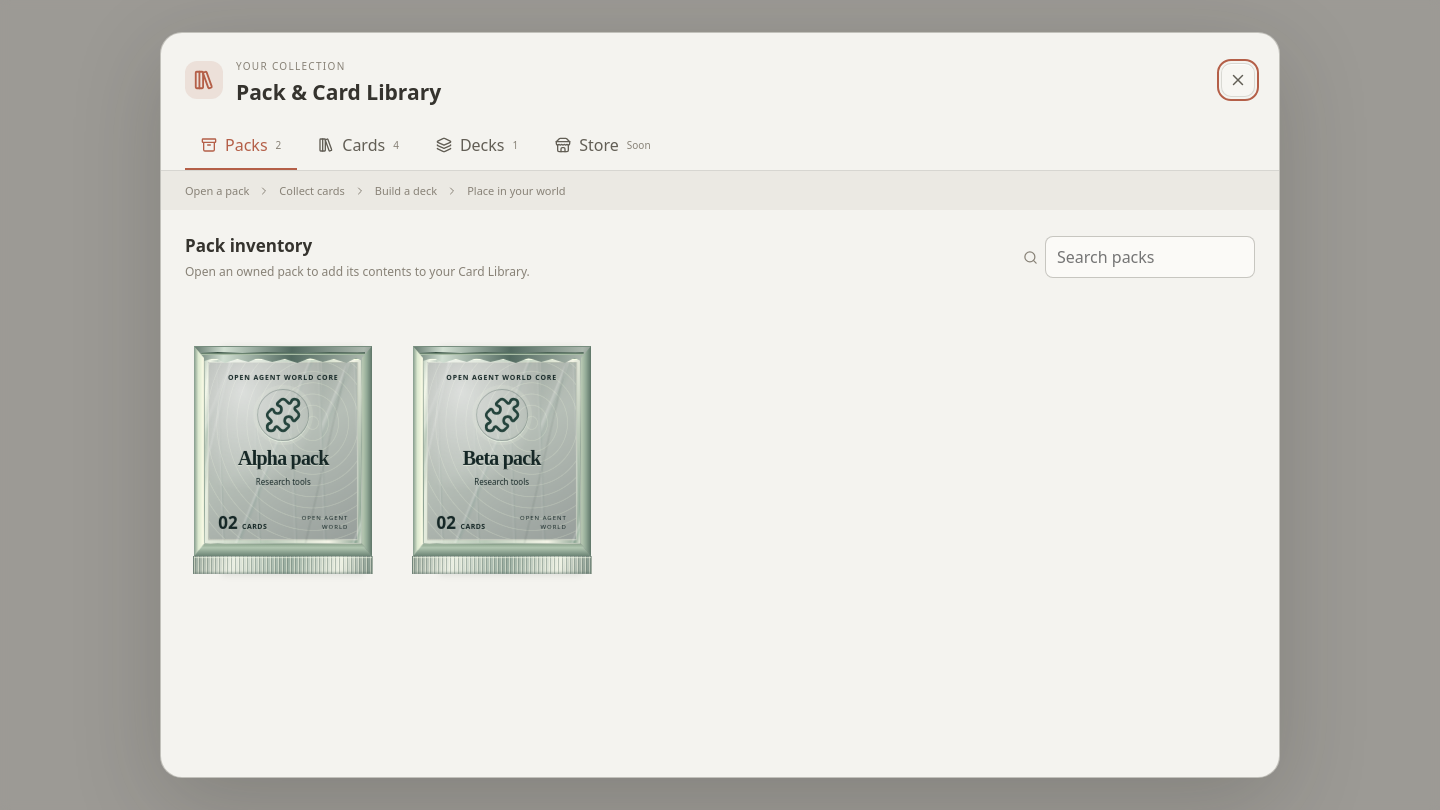
Test: keeps disabled cards visible with their purpose, and distinguishes unavailability from internal use
This screenshot has width=1440, height=810.
Click the button "Cards 4" at [359, 146], box [302, 122, 415, 170]
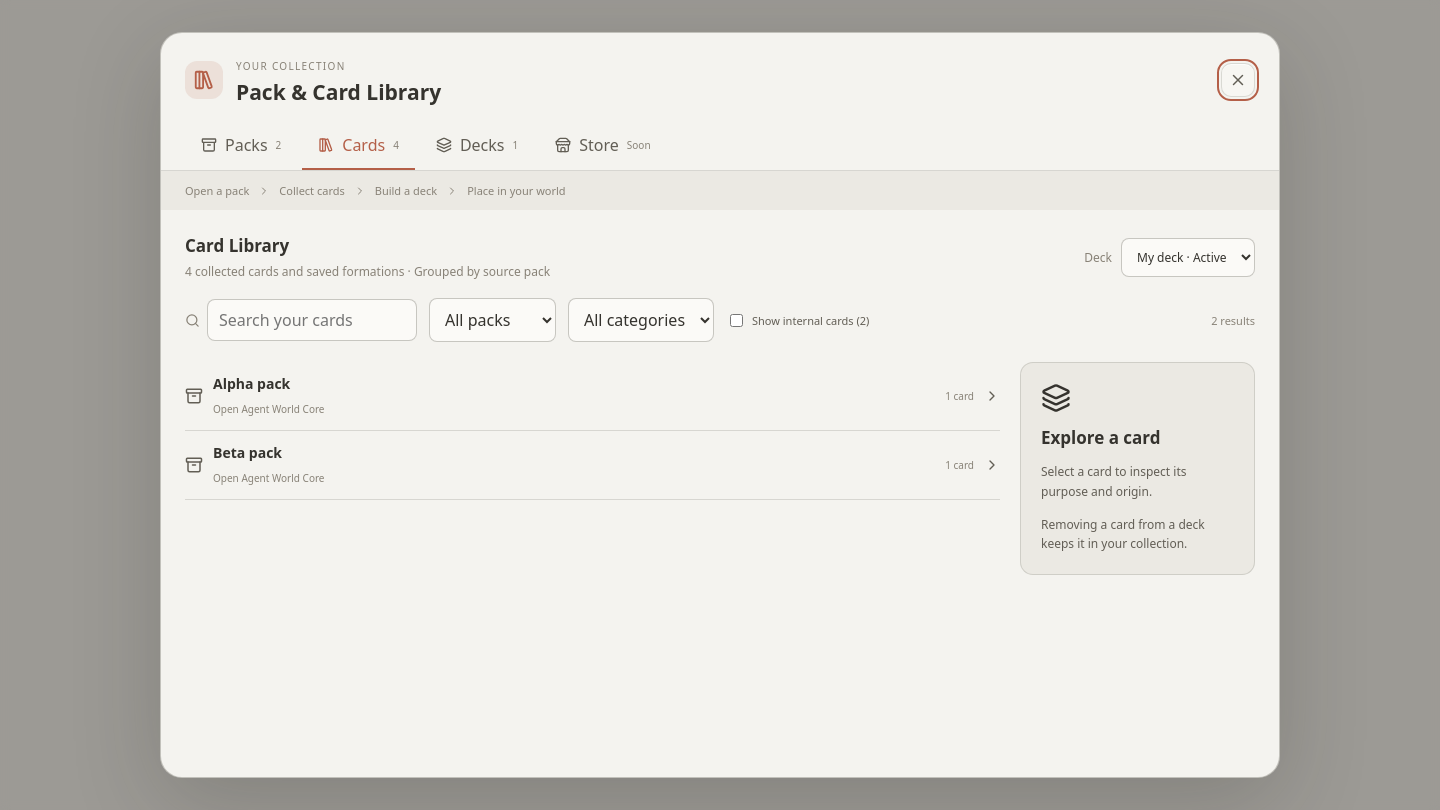
Select "Alpha pack" in the dropdown named "Source pack" at [492, 320], box [429, 298, 556, 342]
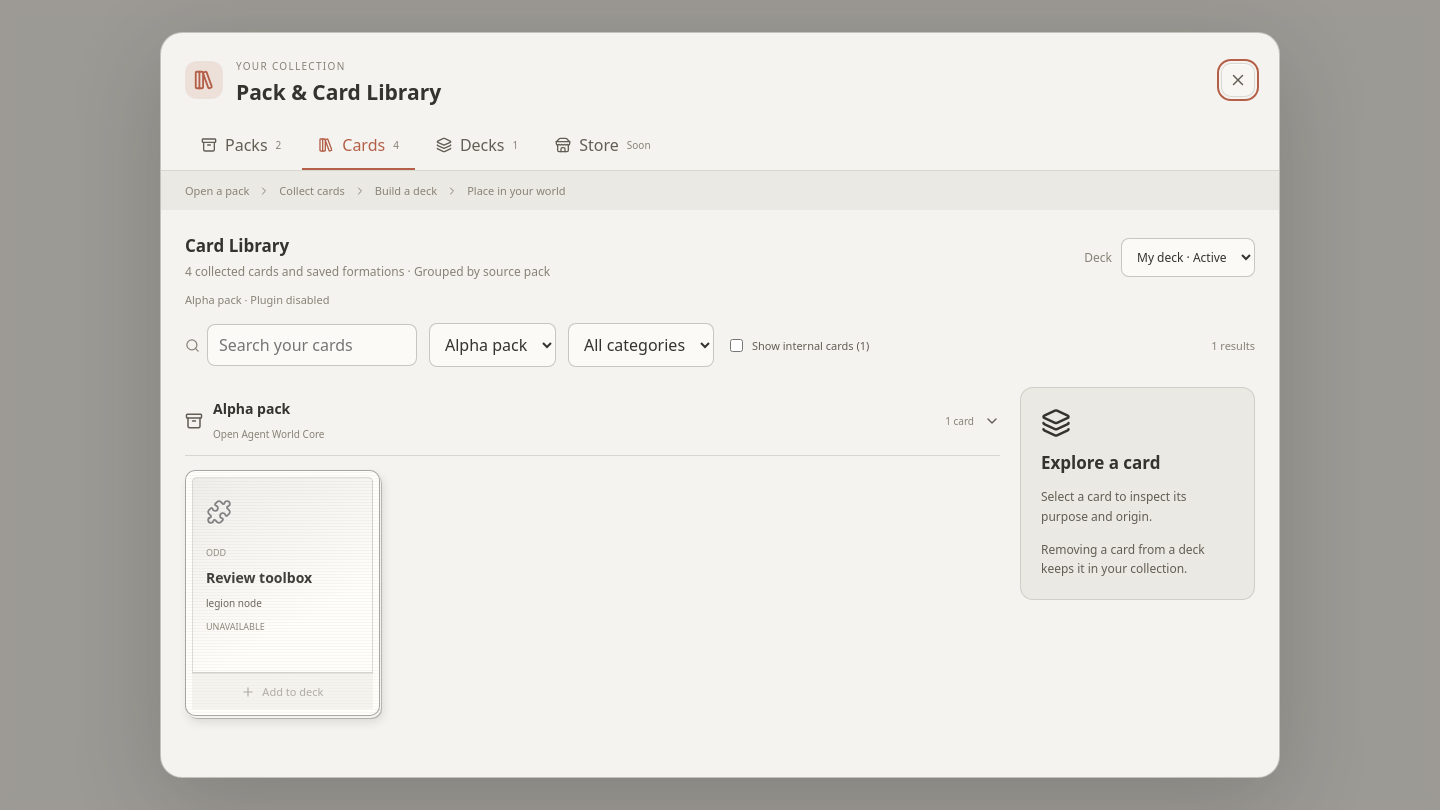
Expected: the button with aria-label "Add Review toolbox to deck" is disabled, [192, 673, 373, 709]
Click the checkbox labelled "Show internal cards (1)" at [736, 345], box [730, 338, 743, 352]
(page scrolled)
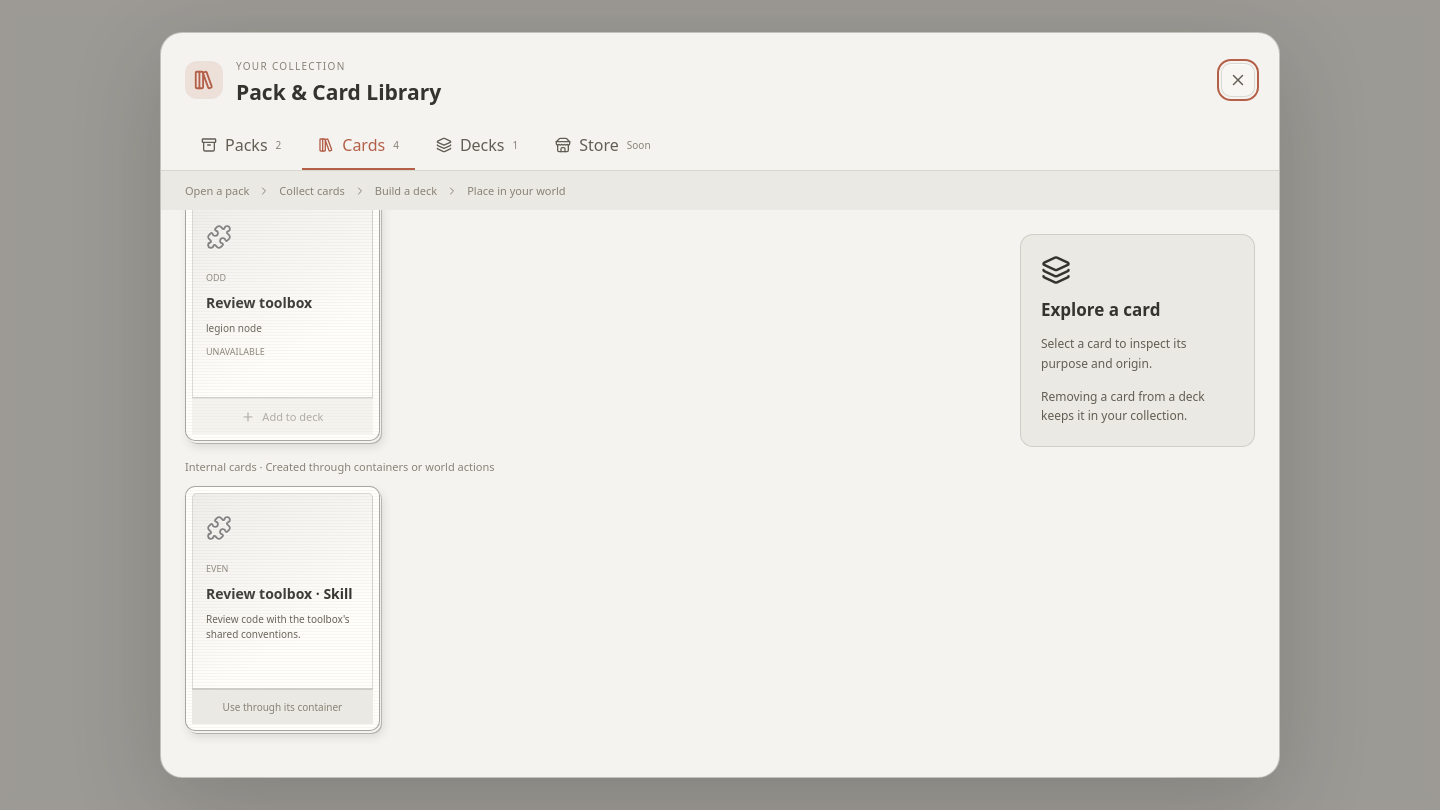
Click the button with aria-label "Inspect Review toolbox · Skill" at [282, 591], box [192, 493, 373, 689]
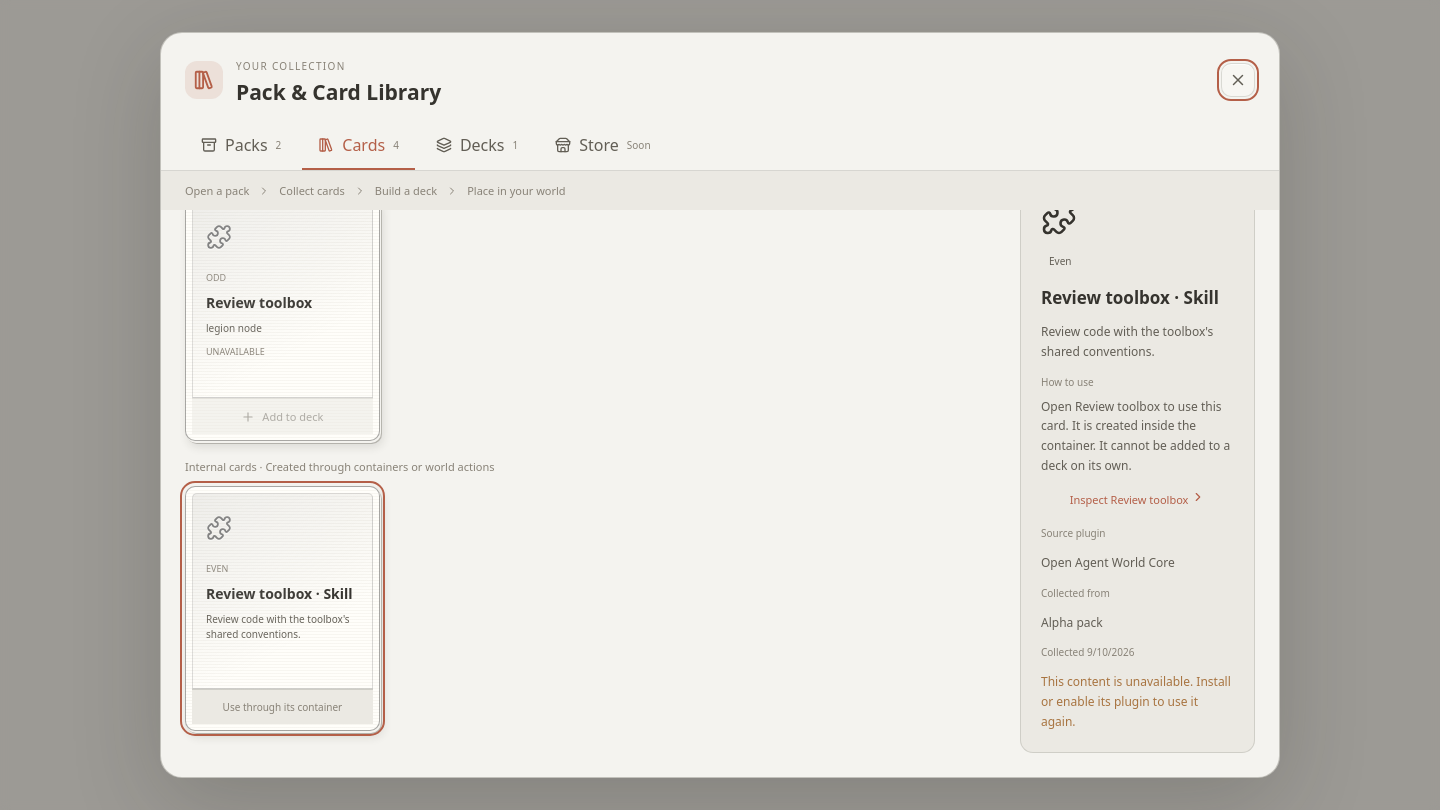
Expected: the text "Install or enable its plugin" is shown, [1041, 674, 1231, 730]
Expected: the text "Open Review toolbox to use this card" is shown, [1041, 398, 1222, 454]
